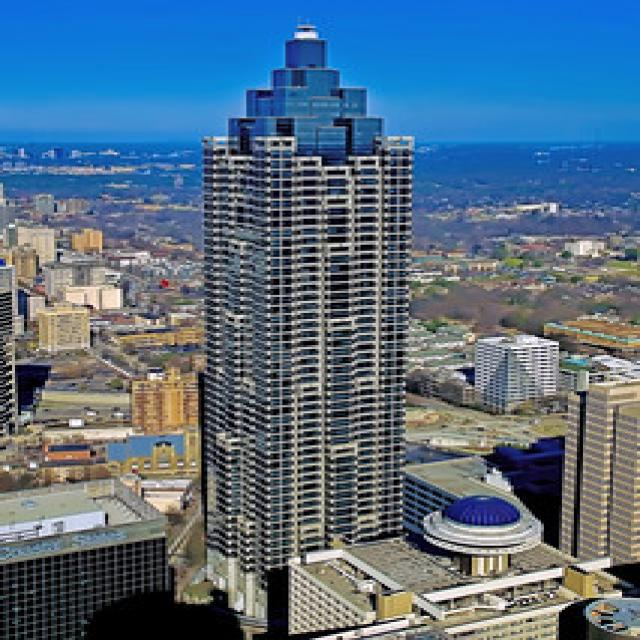Normal_building: (192, 16, 418, 560)
